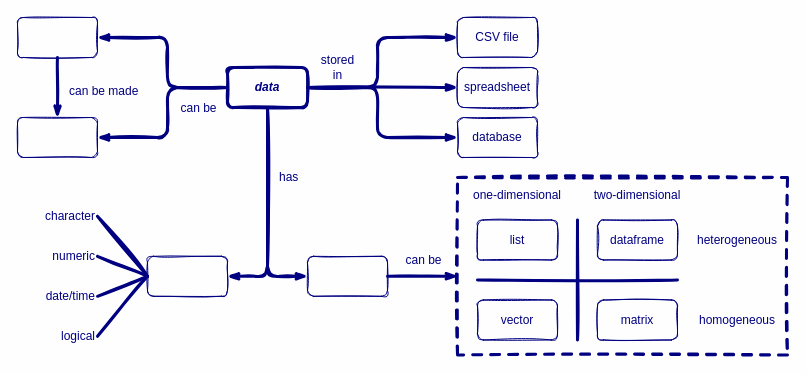
Some shapes in this 806 by 374 pixel diagram are drawn without their labels. The shapes that lost their labels are listed below. From the top down, each one's centre as x and y in pixels, then its label:
At (57,37): "untidy".
At (57,137): "tidy".
At (187,275): "data type".
At (347,275): "storage type".
